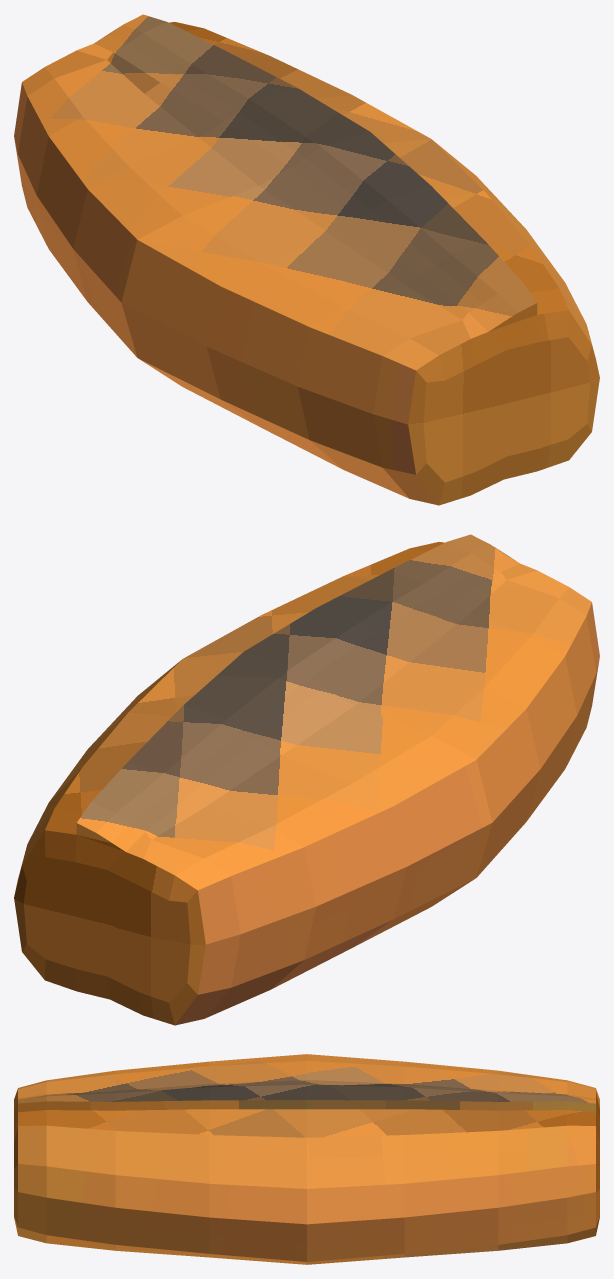
Rendered from bread.fbx.
The picture shows the model from 3 angles, top to bottom: view 1: azimuth 30°, elevation 25°; view 2: azimuth 150°, elevation 25°; view 3: azimuth 270°, elevation 25°; orthographic projection. The views are drawn at different scales.
Parts seen in each view (by area): view 1: Cube; view 2: Cube; view 3: Cube.
Boxes of the visible parts, x1,y1,x2,y2 form: Cube: (14, 14, 599, 505); Cube: (14, 534, 599, 1025); Cube: (14, 1054, 599, 1264).
Bounding box in the file's own units: 26.54 × 14.31 × 49.57.
Materials: 1 (1 with a texture image).
